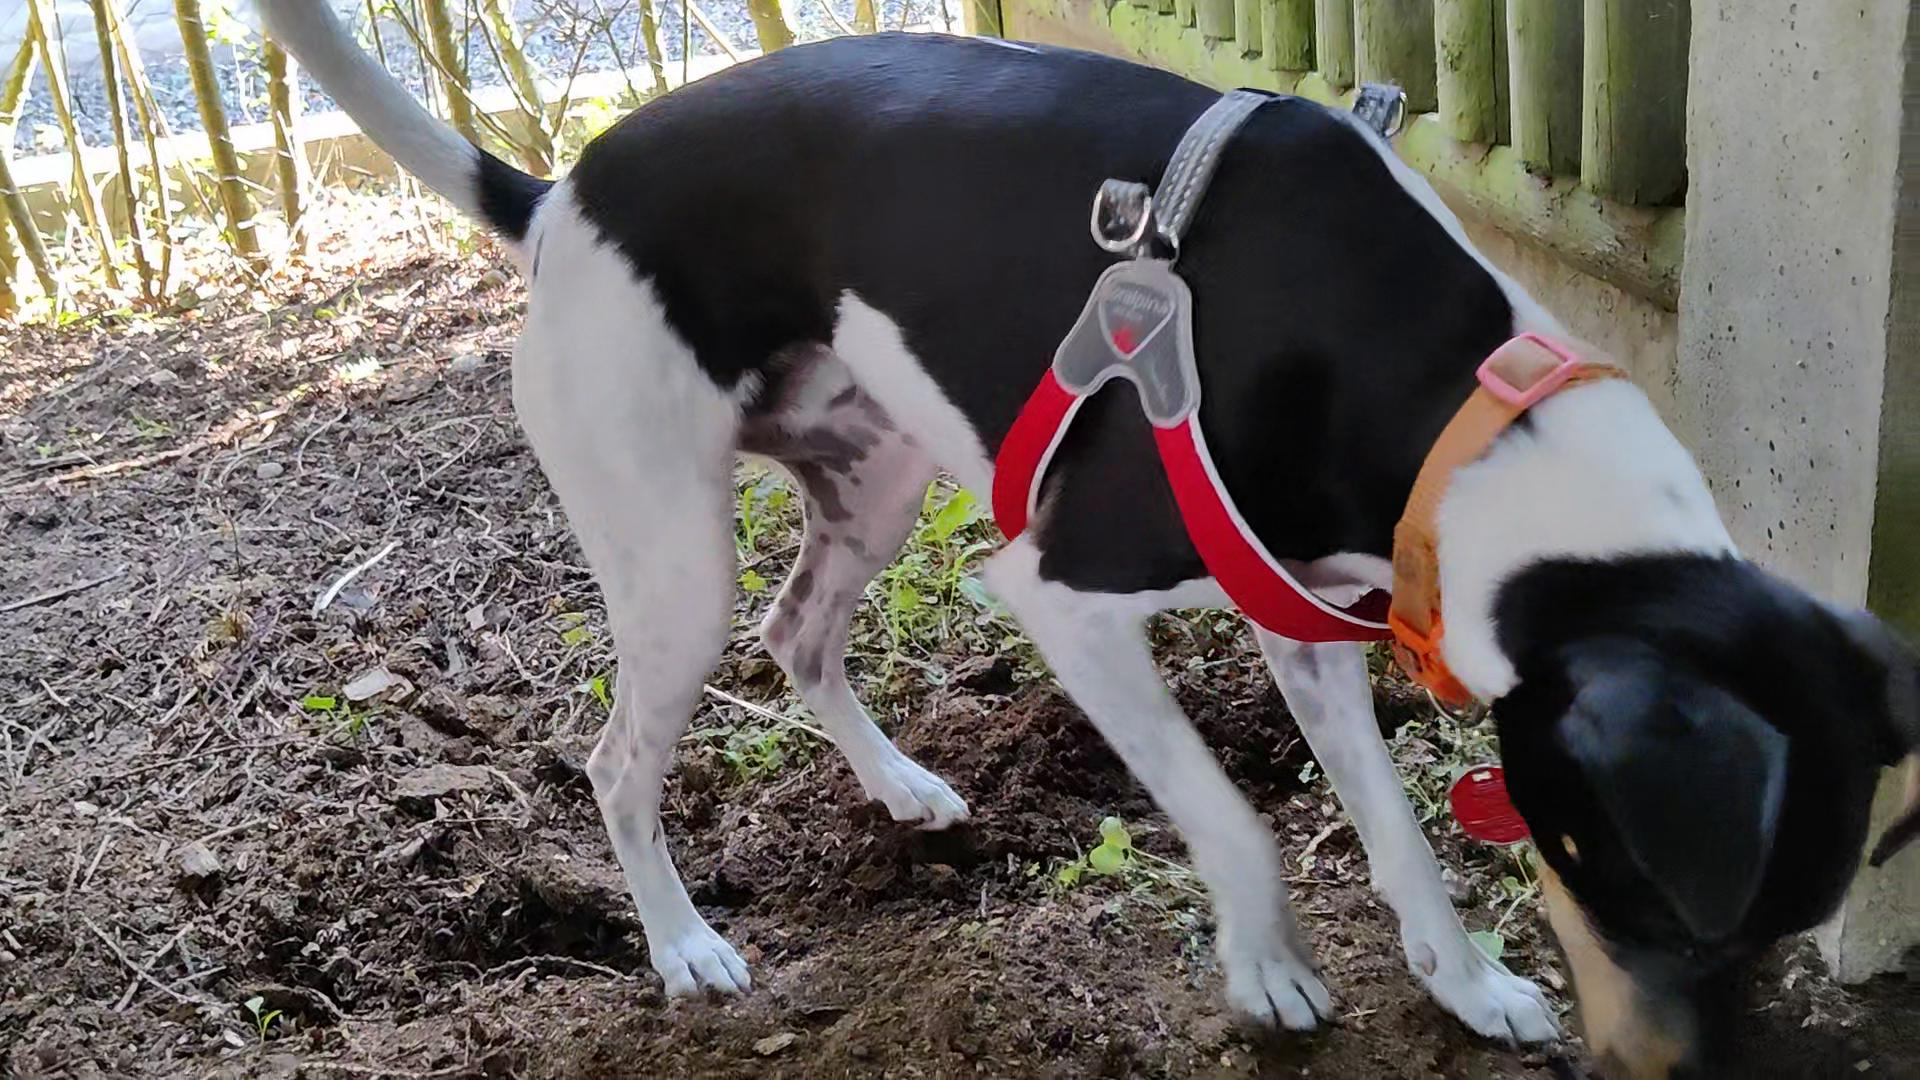Dog: (253, 0, 1919, 1079)
